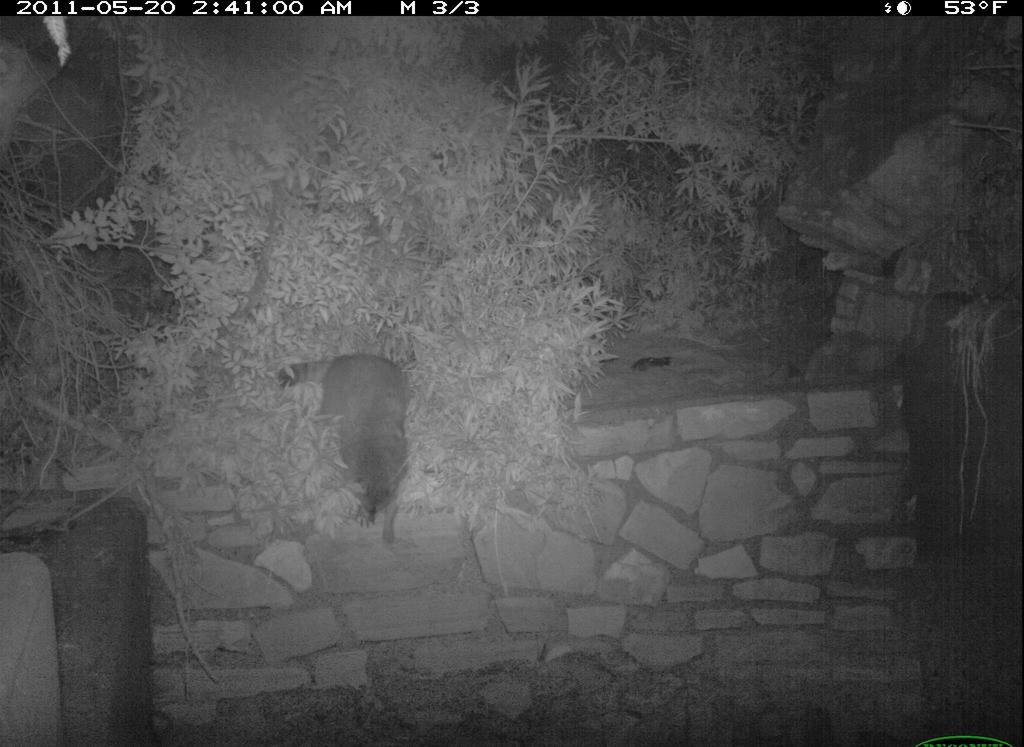raccoon: (259, 337, 431, 553)
